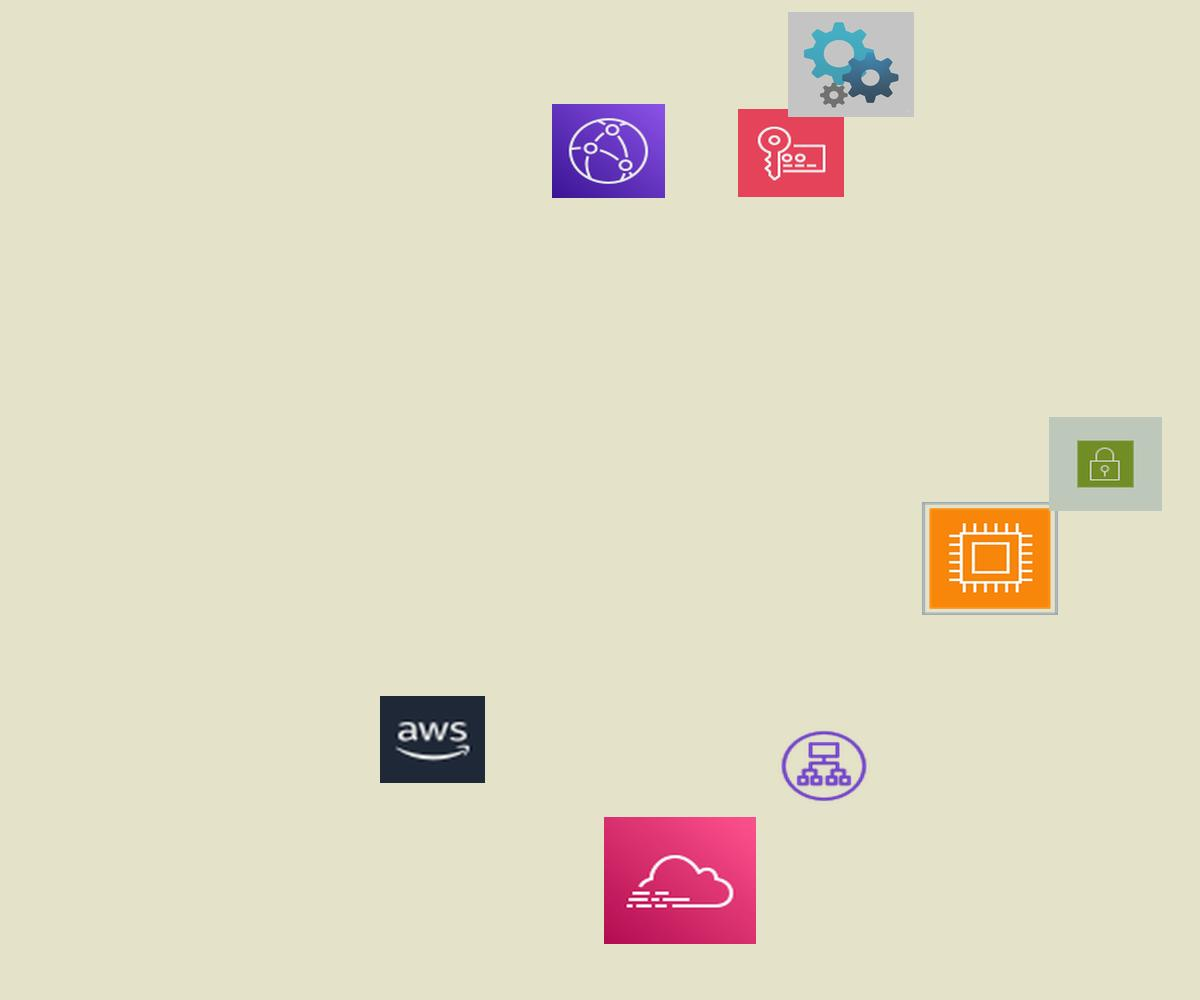AWS-Category_Compute: (922, 502, 1058, 615)
AWS-Cloud-logo: (380, 696, 485, 783)
AWS-CloudFront: (552, 104, 665, 198)
AWS-CloudTrail: (604, 817, 756, 944)
AWS-Key-Management-Service: (738, 109, 844, 197)
AWS-Public-subnet: (1049, 417, 1162, 511)
AWS-Res_Elastic-Load-Balancing_Application-Load-Balancer: (778, 728, 870, 804)
Azure_api: (788, 12, 914, 117)
